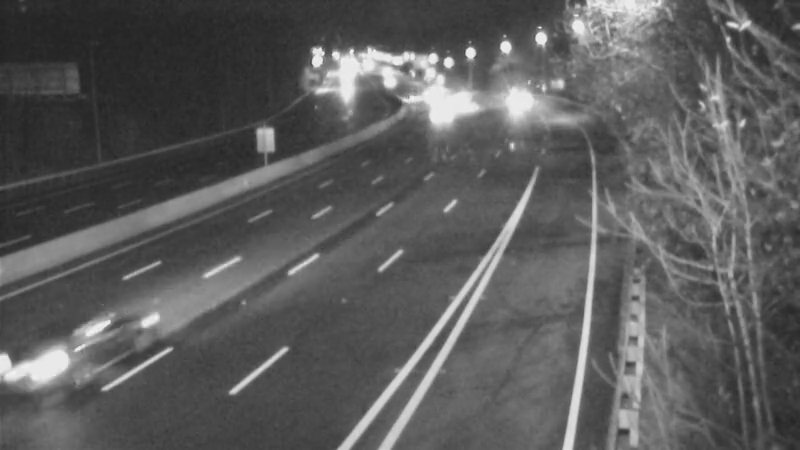vehicle: (1, 302, 101, 412), (438, 71, 488, 121), (484, 76, 534, 126), (441, 87, 491, 137), (418, 90, 468, 140)
